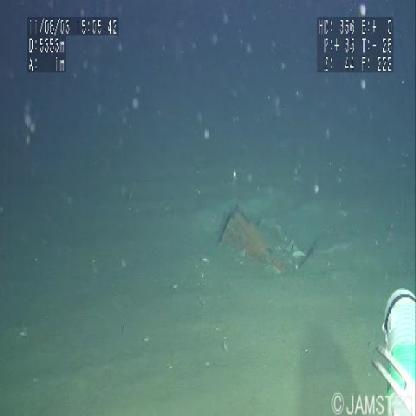Rác: (221, 205, 272, 273)
